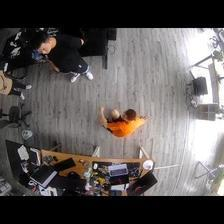fall: (95, 108, 146, 135)
normal: (33, 32, 93, 84)
